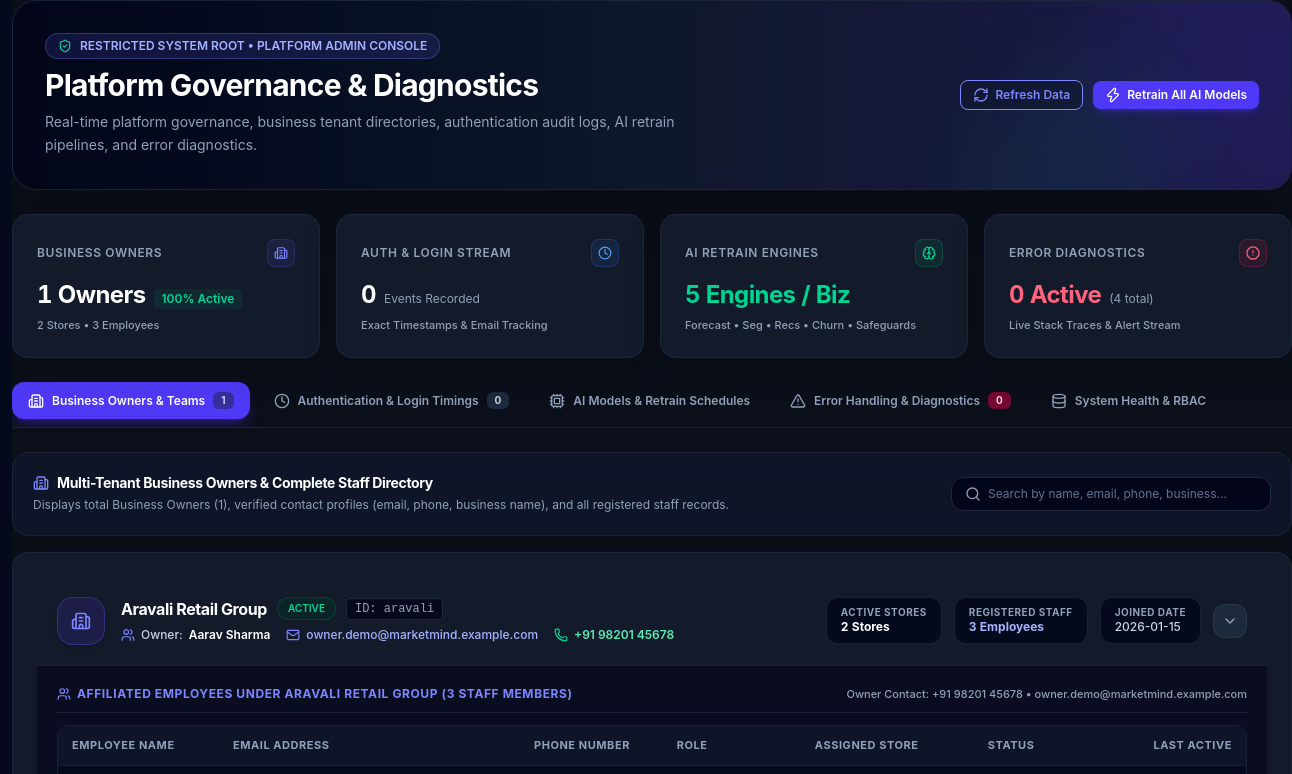
Admin Dashboard Platform Operations & Governance › navigates to AI Models & Retrain Schedules and displays last trained dates
Click the button "AI Models & Retrain Schedules" at {"x": 650, "y": 401}, box [533,383,766,419]
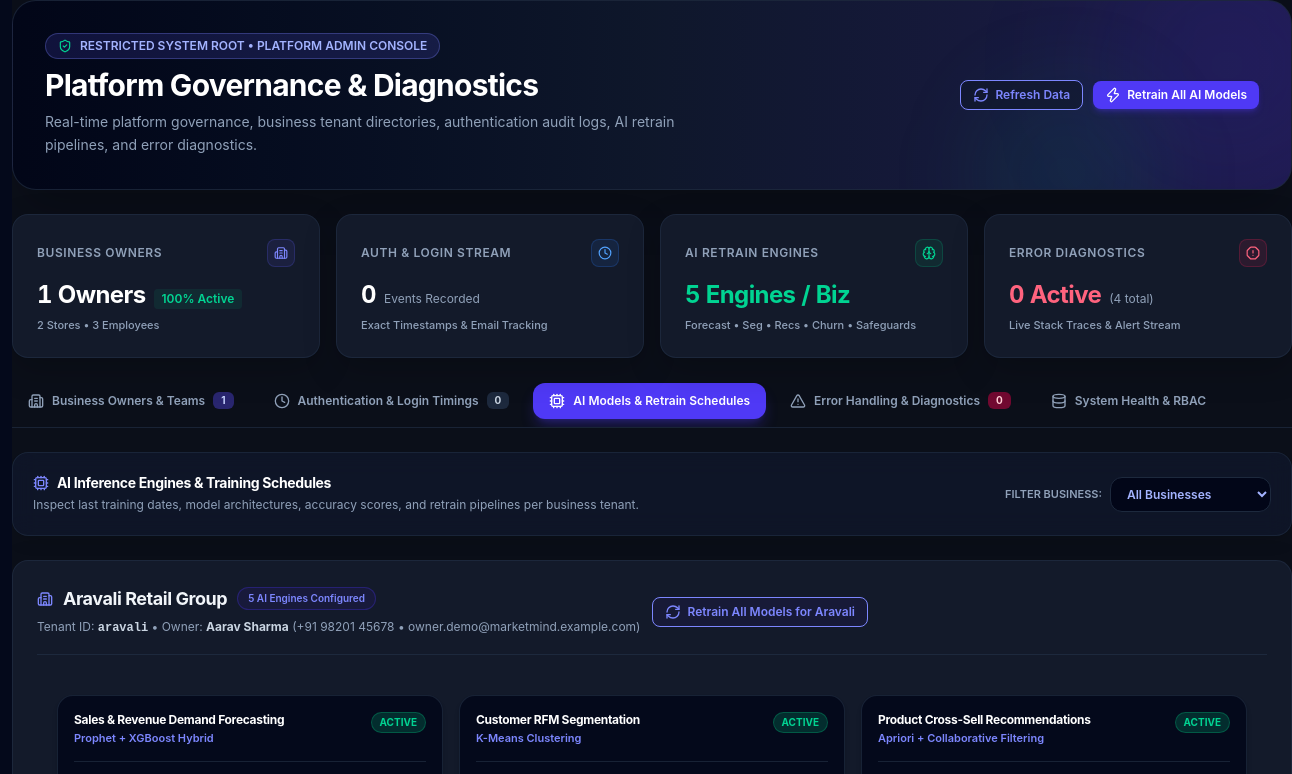
Check: the heading "AI Inference Engines & Training Schedules" is shown, box [33,474,331,491]
